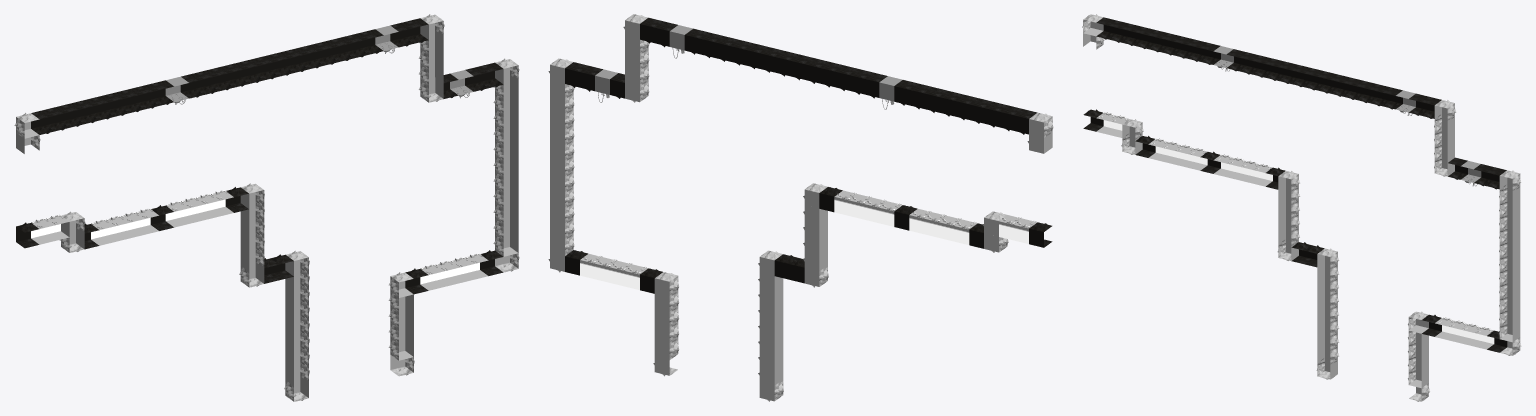
The model's file is Cubi_Room12.fbx.
3 renders of one model, left to right at view 1: azimuth 30°, elevation 25°; view 2: azimuth 150°, elevation 25°; view 3: azimuth 330°, elevation 25°, orthographic. The views are drawn at different scales.
Visible parts, largest first — view 1: Cubes_Room12; view 2: Cubes_Room12; view 3: Cubes_Room12.
Boxes of the visible parts, <box> form: Cubes_Room12: <box>14,14,519,401</box>; Cubes_Room12: <box>548,14,1053,401</box>; Cubes_Room12: <box>1082,14,1521,401</box>.
Bounding box in the file's own units: 3345 × 2245 × 100.
